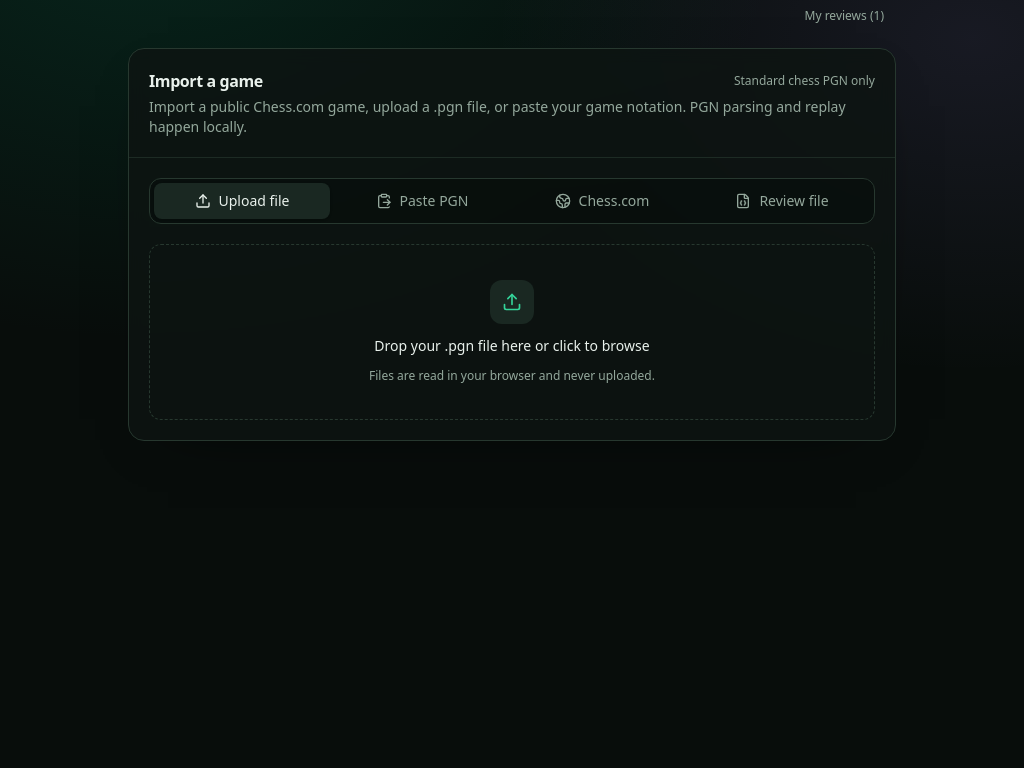
Test: Phase 6 saved-review, share and export UI › opens a completed saved review without rerunning analysis
This screenshot has width=1024, height=768.
Click the button "My reviews (1)": (844, 16) left=792, top=0, right=896, bottom=32
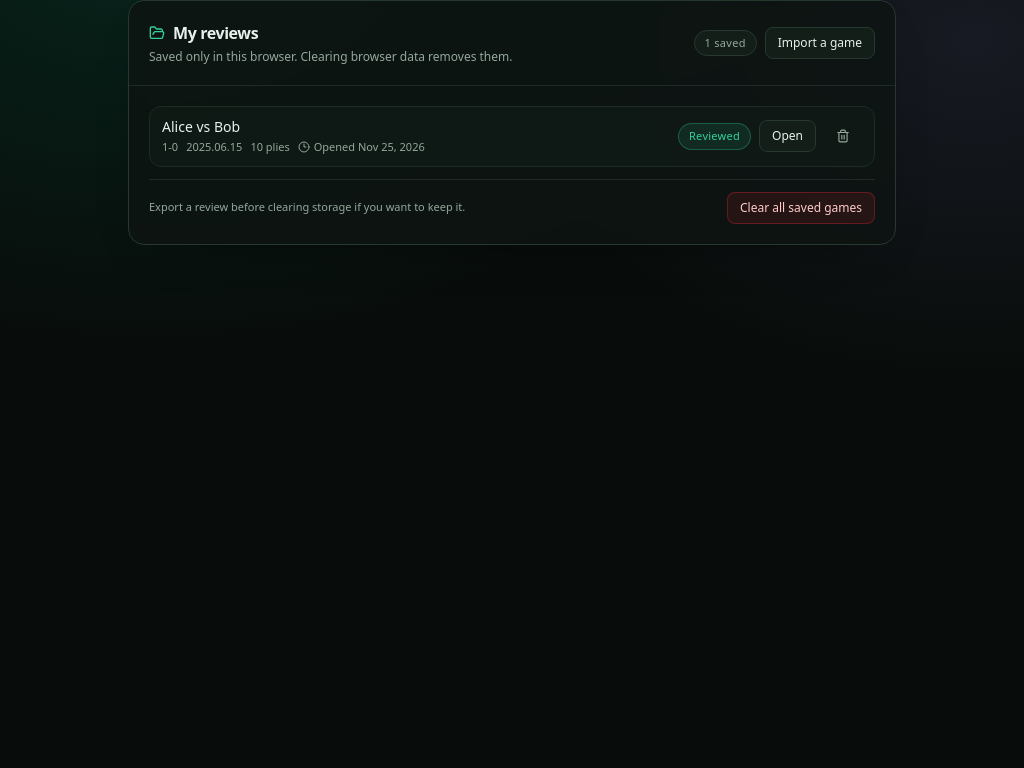
Click the button "Open": (788, 136) left=759, top=120, right=816, bottom=152
(page scrolled)
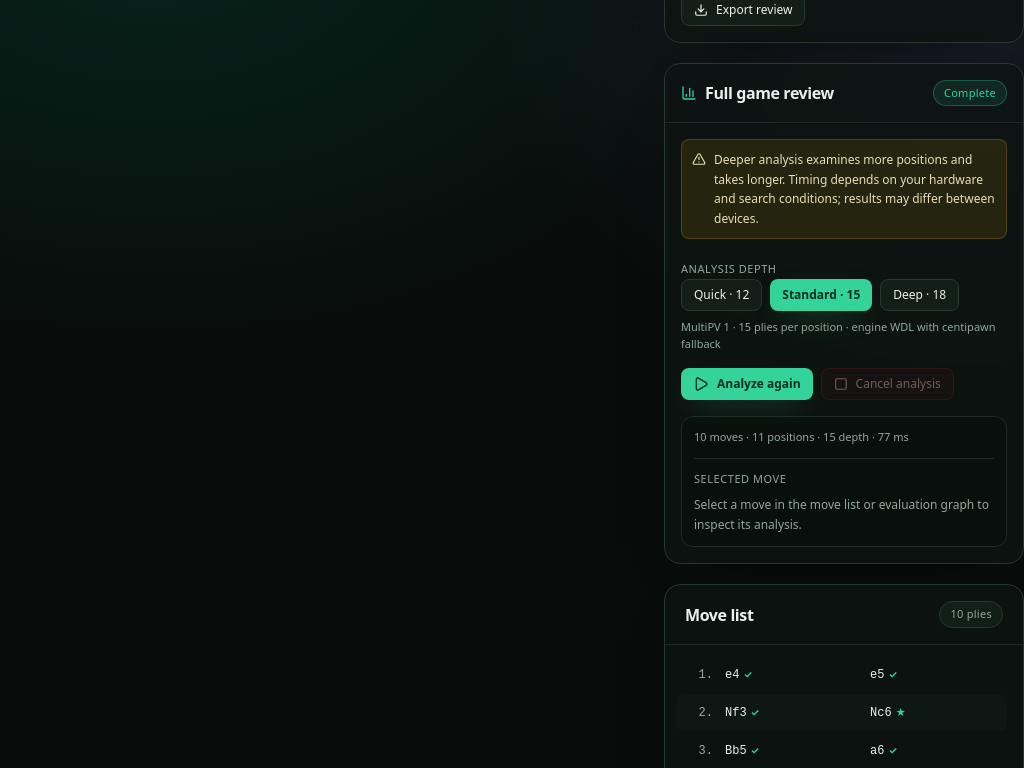
Expected: the button "Analyze again" is shown, left=681, top=368, right=813, bottom=400
